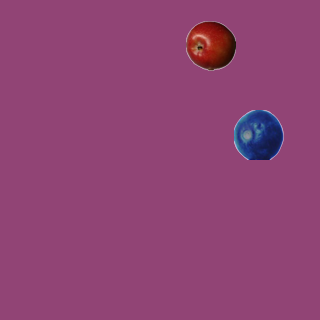Apple Braeburn: (185, 20, 235, 70)
Huckleberry: (233, 109, 283, 159)
